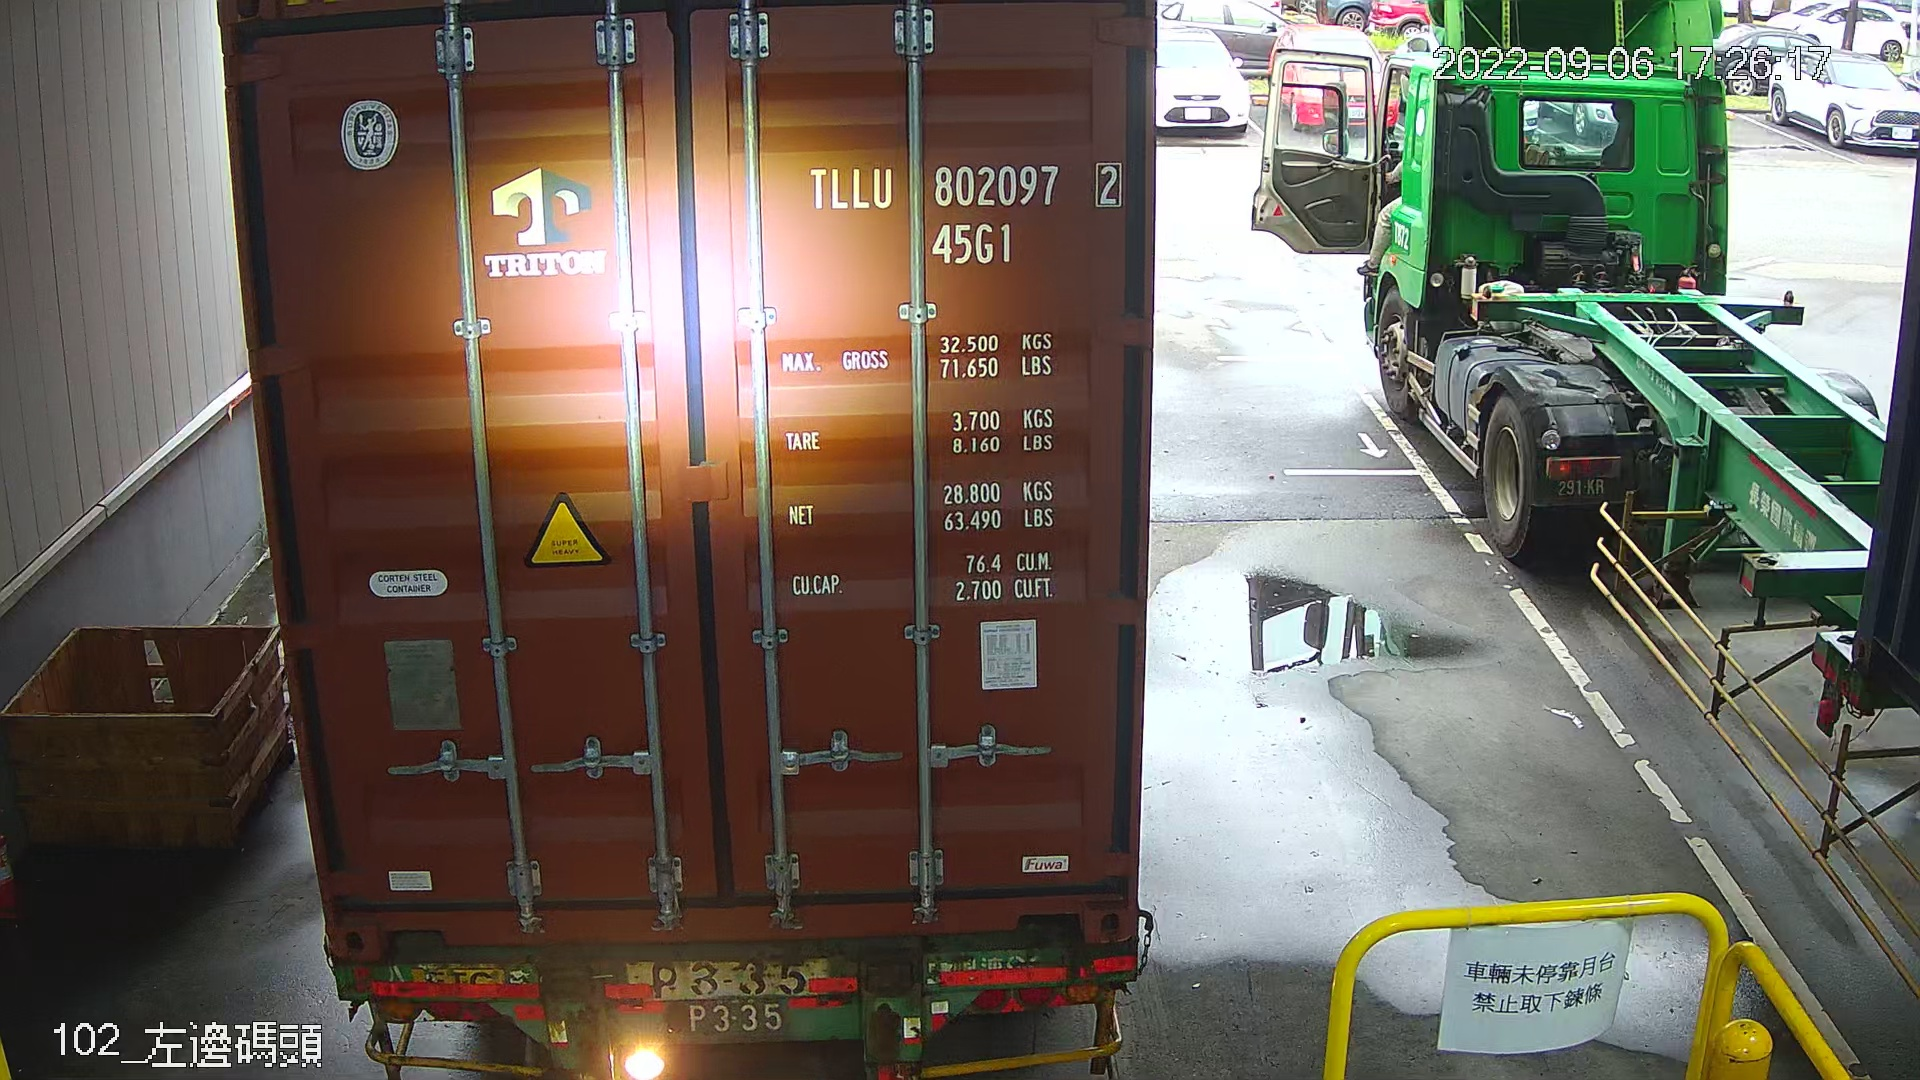container: (796, 156, 1135, 274)
